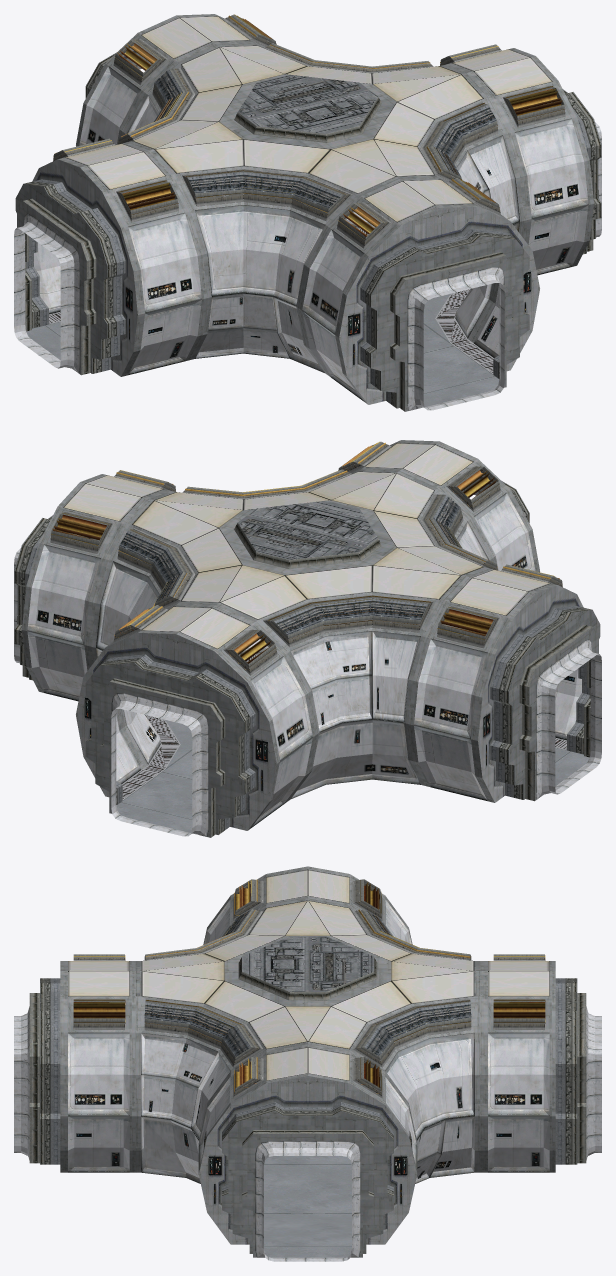
The model's file is poi_all_rebl_bunker_s01_r4_entrance_mesh_r4.fbx.
The picture shows the model from 3 angles, top to bottom: view 1: azimuth 30°, elevation 25°; view 2: azimuth 150°, elevation 25°; view 3: azimuth 270°, elevation 25°; orthographic projection. The views are drawn at different scales.
Visible parts, largest first — view 1: mesh_node; view 2: mesh_node; view 3: mesh_node.
Part boxes in pixels (x1,y1,x2,y2): mesh_node: (14,14,601,411); mesh_node: (14,440,601,837); mesh_node: (14,866,601,1261).
Size of the model in its own units: 14 by 4.62 by 14.
